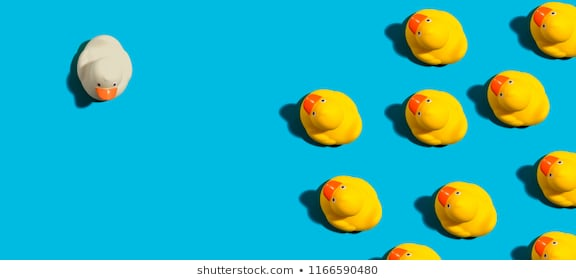duck: (65, 25, 145, 106), (303, 166, 393, 237), (287, 84, 376, 151)
